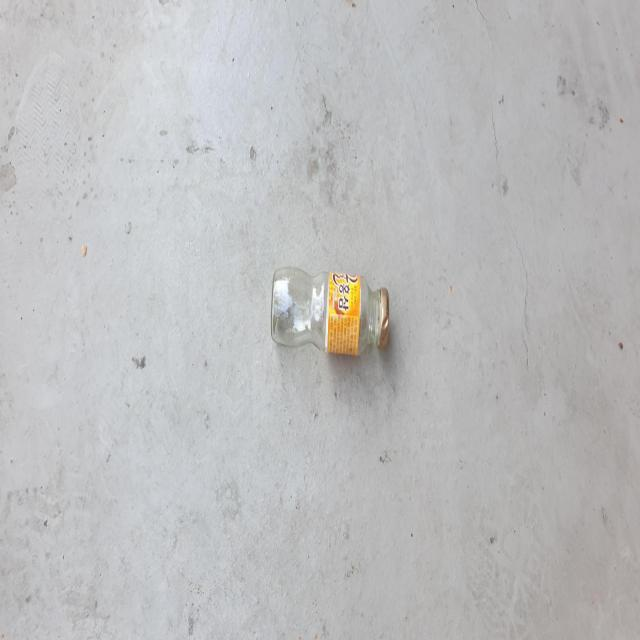glass: (271, 266, 390, 354)
